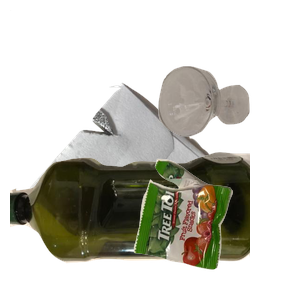glass: (156, 64, 300, 194)
paper: (10, 10, 250, 190)
plastic: (10, 149, 250, 300)
trash: (131, 156, 300, 300)
